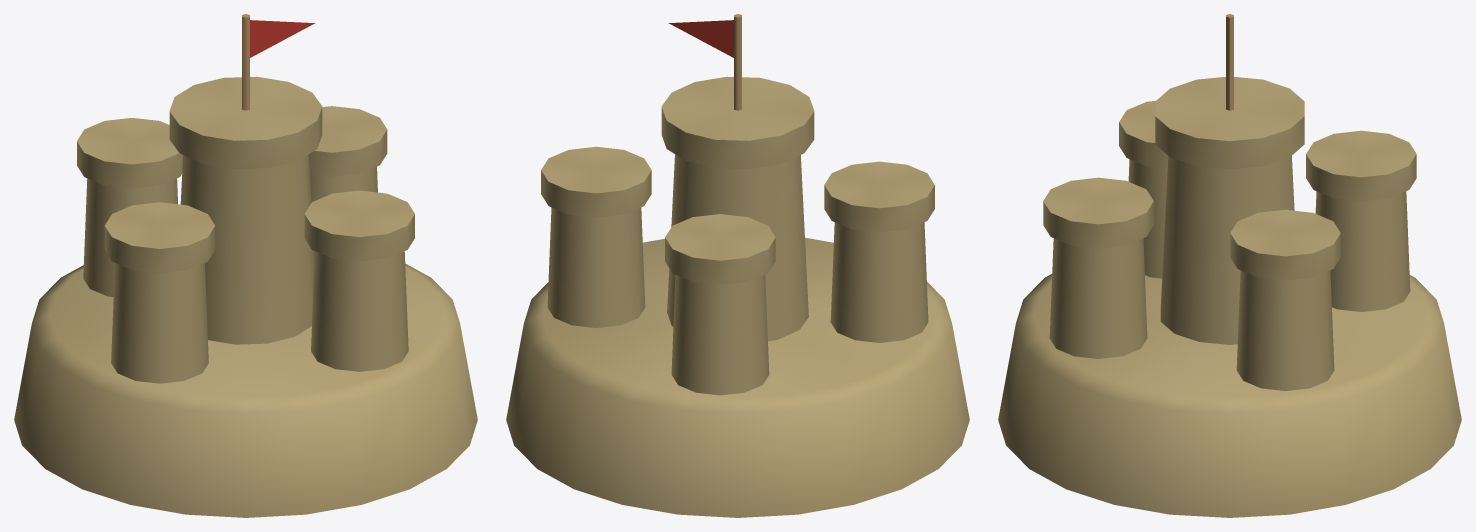
File: Park_SandCastle.fbx
3 views of the same model, side by side, from view 1: azimuth 30°, elevation 25°; view 2: azimuth 150°, elevation 25°; view 3: azimuth 270°, elevation 25° (orthographic).
Parts seen in each view (by area): view 1: Park_SandCastle; view 2: Park_SandCastle; view 3: Park_SandCastle.
Boxes of the visible parts, left/top/right/bottom form: Park_SandCastle: left=14, top=14, right=477, bottom=517; Park_SandCastle: left=506, top=14, right=969, bottom=517; Park_SandCastle: left=998, top=14, right=1461, bottom=517.
Bounding box in the file's own units: 5.2 × 5 × 5.2.
